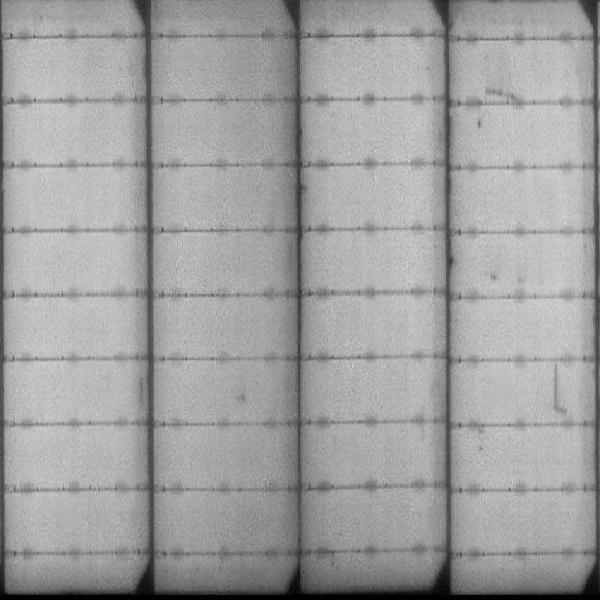scratch: (549, 362, 567, 416), (483, 82, 530, 101)
